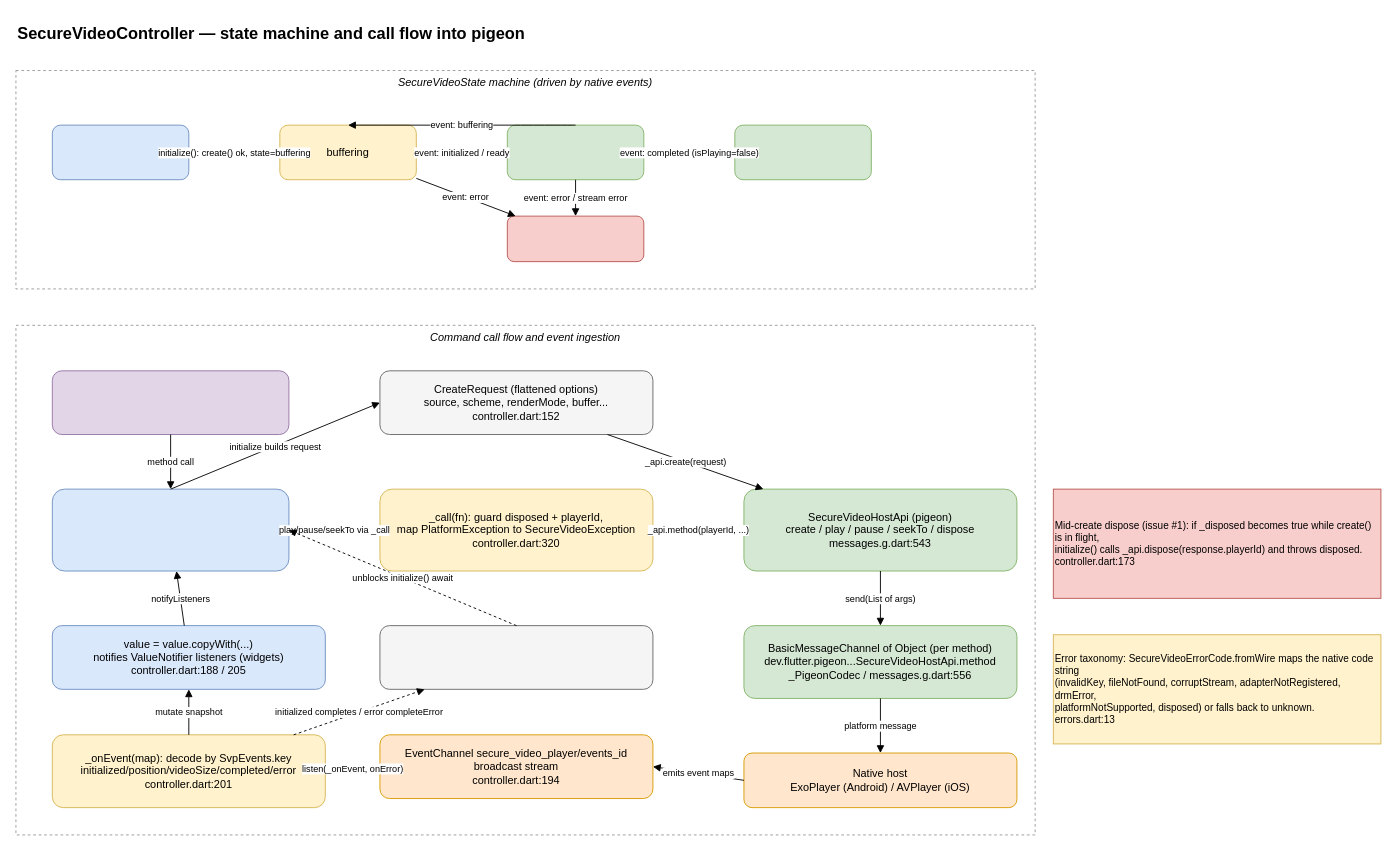
The diagram is 1397 pixels wide and 851 high, and some of its shapes have lost their labels. Each missing label, with the centre of its shape:
"_readyCompleter initialize() awaits until initialized/error controller.dart:198" goes at (x=516, y=657).
"App code controller.initialize / play / pause / seekTo" goes at (x=170, y=402).
"completed" goes at (x=802, y=152).
"error" goes at (x=575, y=238).
"ready" goes at (x=575, y=152).
"SecureVideoController (ValueNotifier of SecureVideoValue) controller.dart:118" goes at (x=170, y=529).
"uninitialized" goes at (x=120, y=152).
